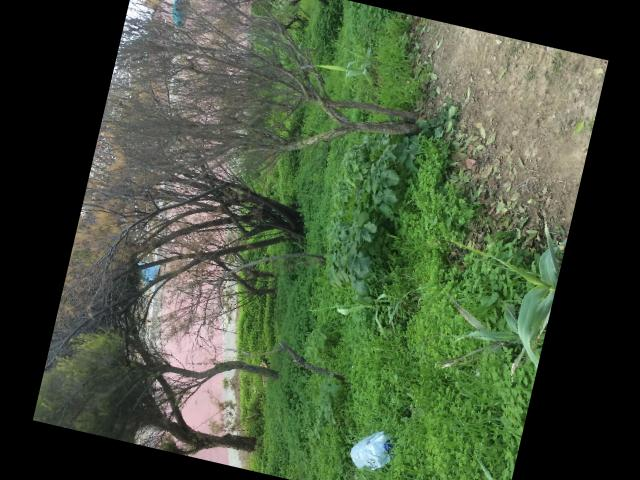plastic: (350, 430, 392, 469)
